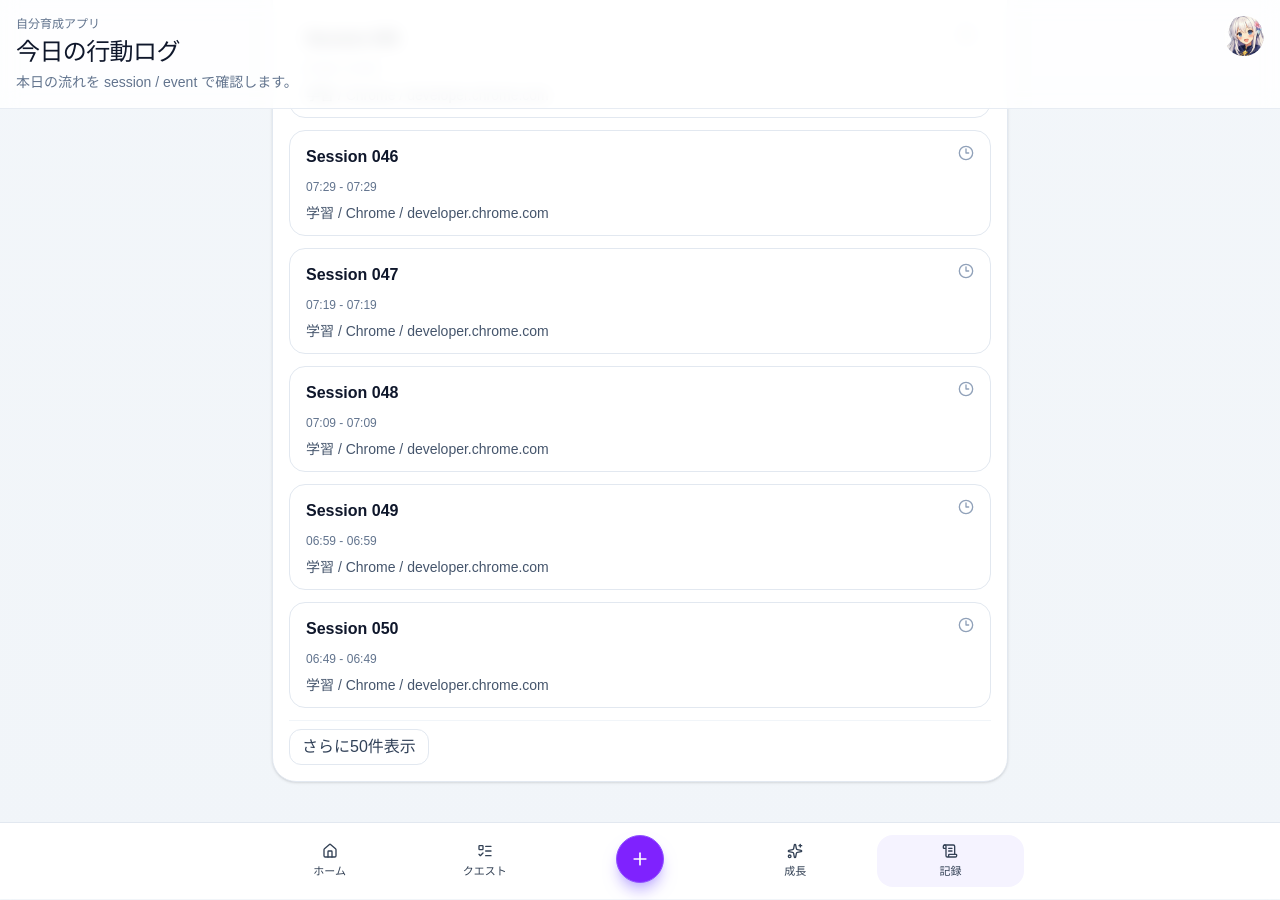
it: activity log routes › fetches the next session page after pressing load more
The image size is (1280, 900).
(page scrolled)
Step 1. Click the button "さらに50件表示" → (359, 747), box [289,729,429,765]
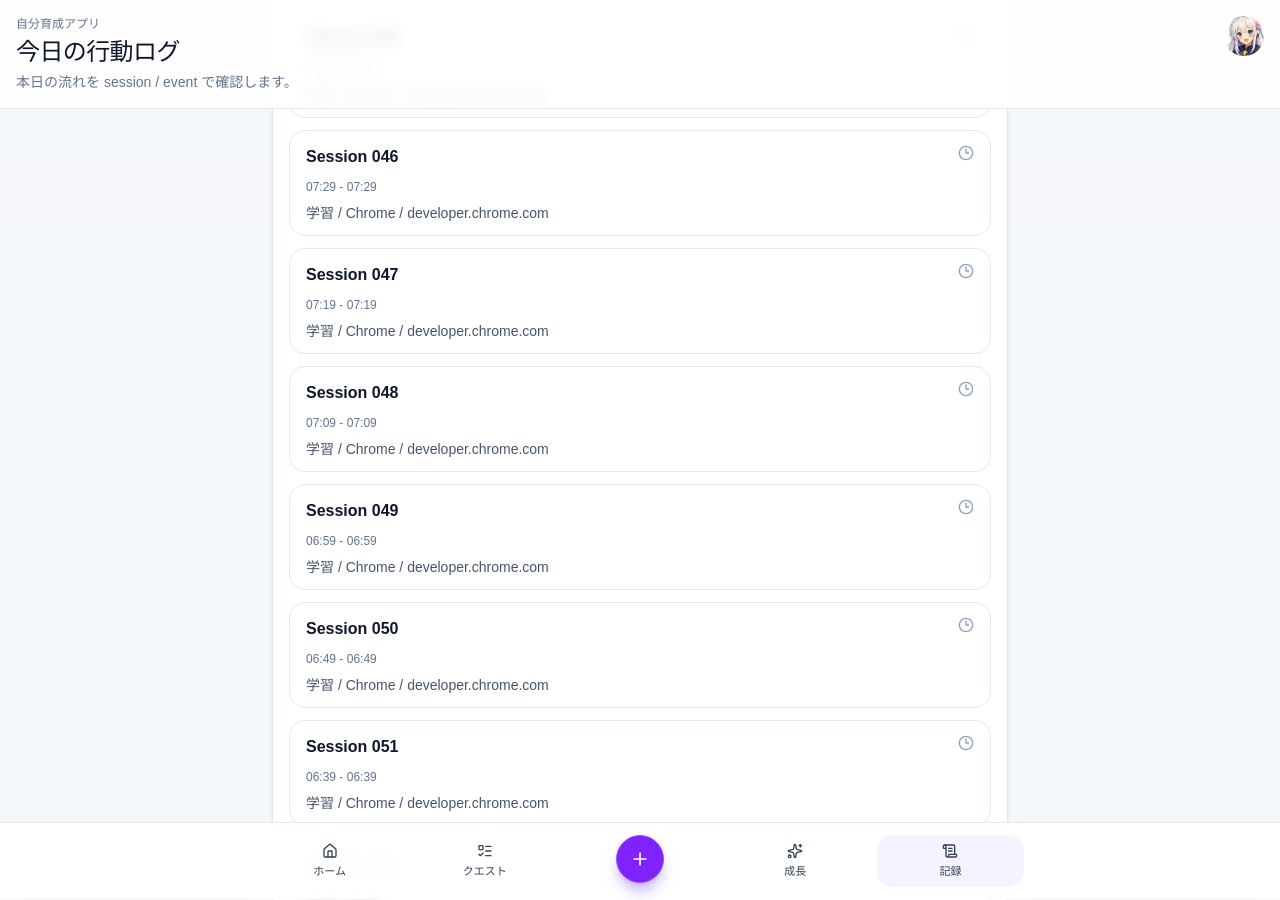
Check: the element with test id "activity-session-session_051" is shown, box [289,720,991,826]
Check: the button "さらに50件表示" is gone
